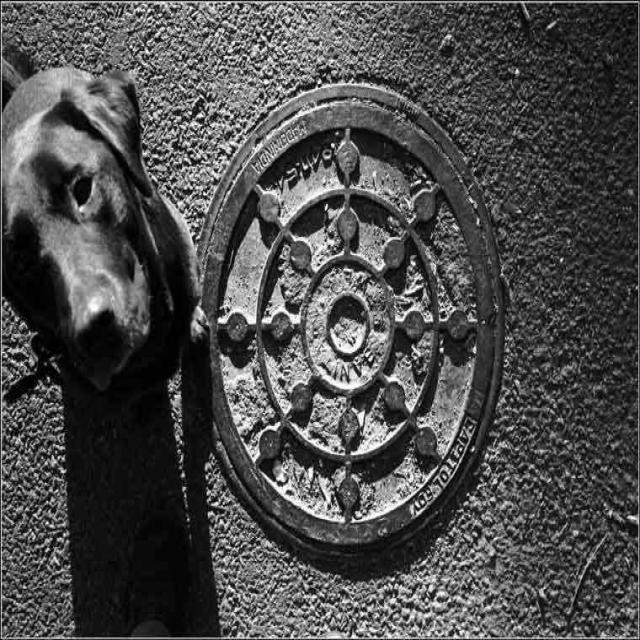manhole: (200, 85, 504, 554)
